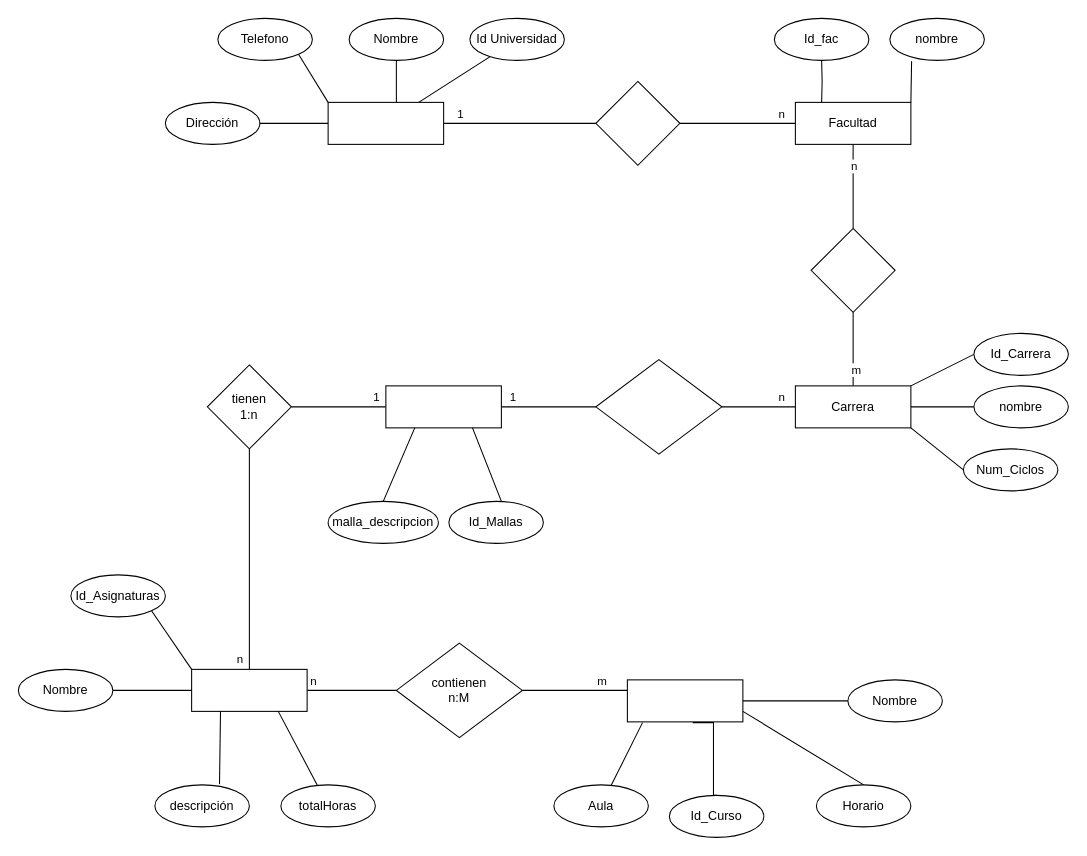
Some shapes in this 1087 by 856 pixel diagram are drawn without their labels. The centre of each missing label's shape, as x and y in pixels:
Asignaturas: the point at 249,689
Compuesta por n:1: the point at 658,406
Curso: the point at 684,700
Mallas: the point at 443,406
Separa por 1:n: the point at 637,122
tiene n:M: the point at 852,269
Universidad: the point at 385,122
